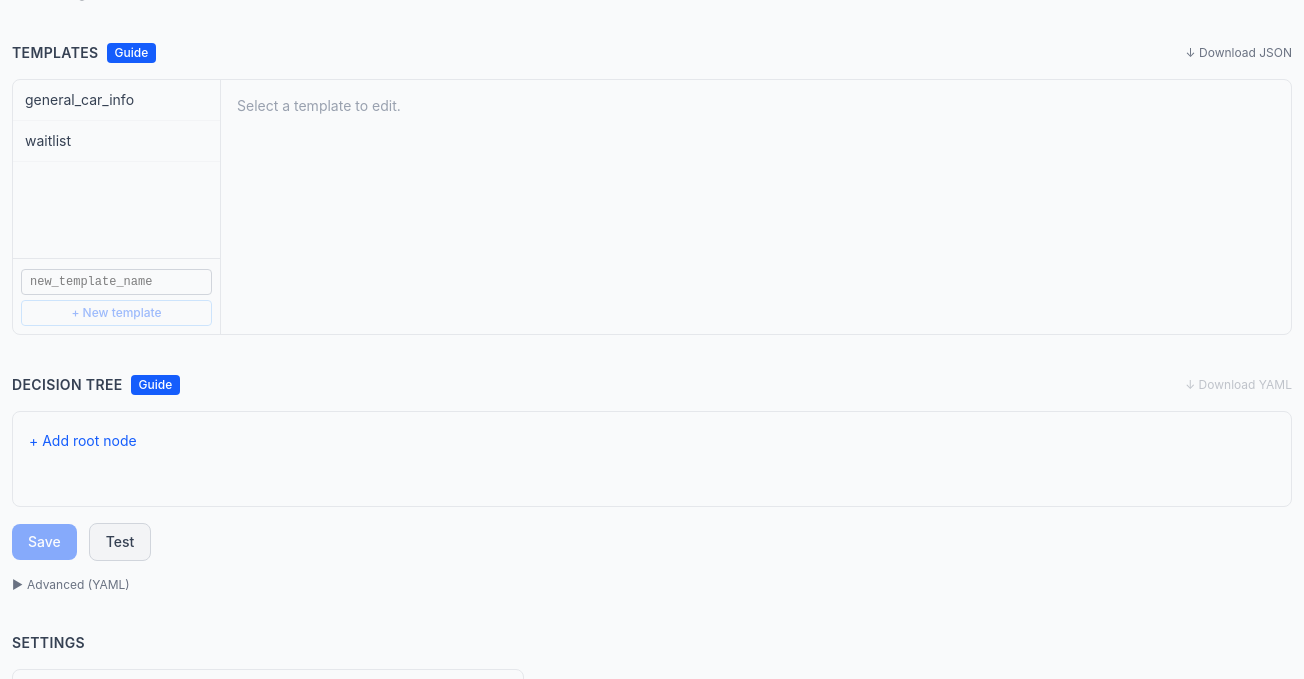
it: LA driver within 0.5 miles of an LA charger routes to car_info_no_grace_period
Expected: the button "general_car_info" is shown, [13,80,220,120]
Click the button "Test" at (120, 542), box [89,523,151,561]
(page scrolled)
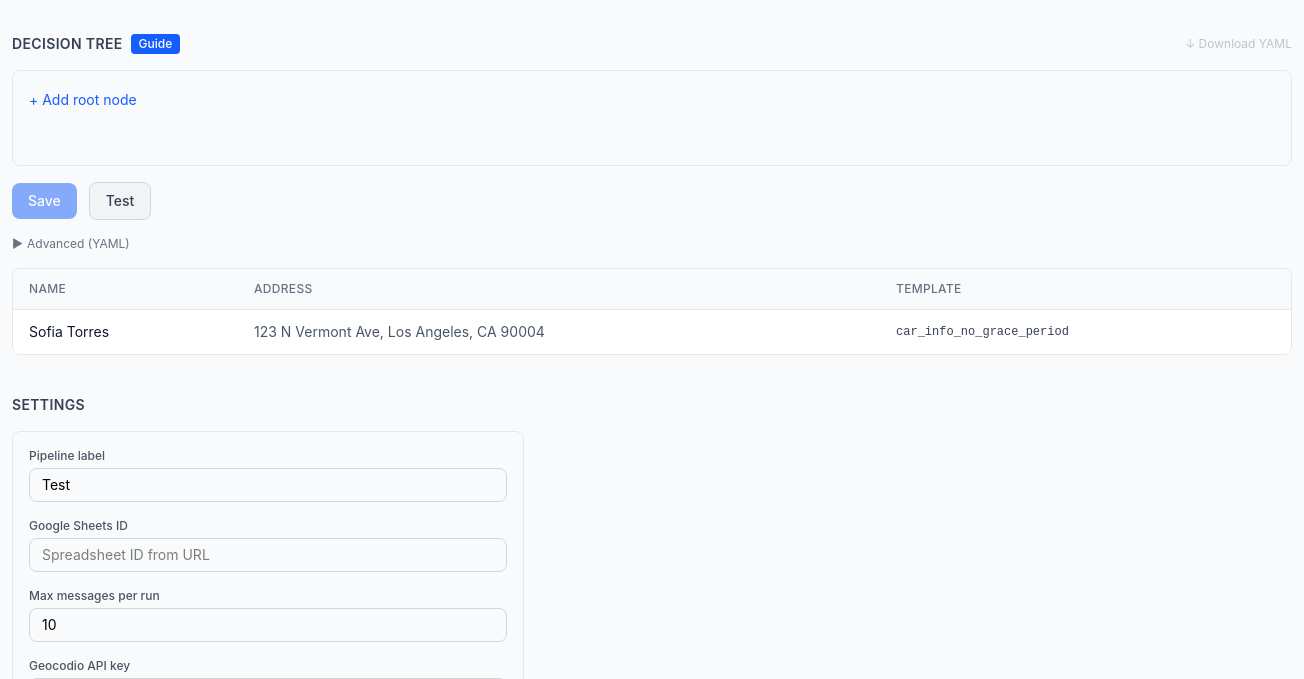
Now the text "Sofia Torres" is shown, box [13,310,238,354]
Now the text "car_info_no_grace_period" is shown, box [880,310,1291,354]
